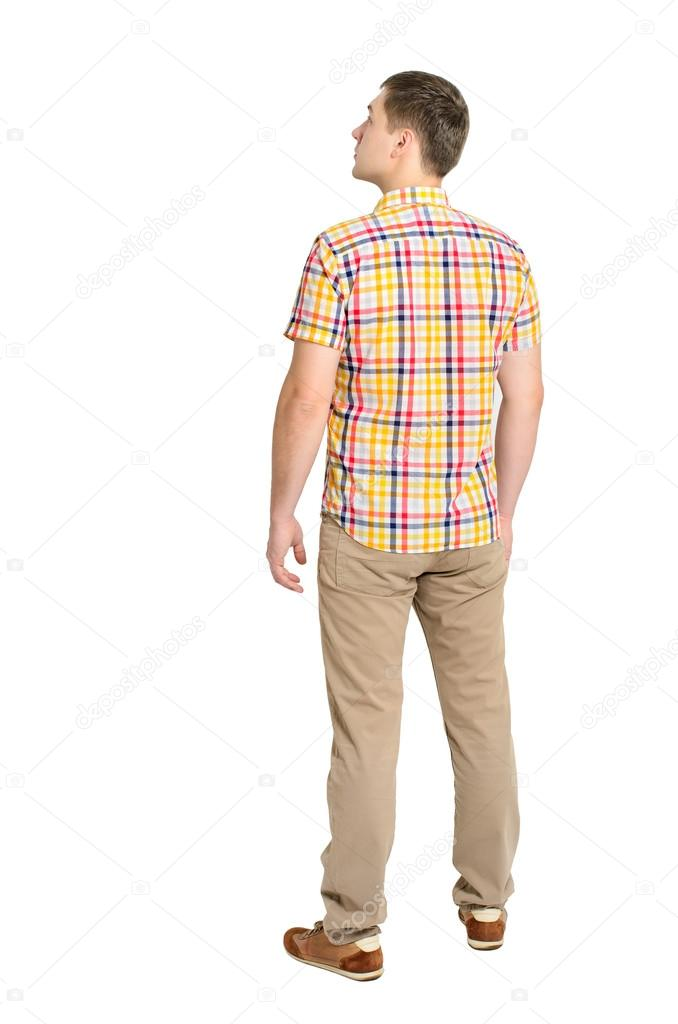person: (265, 72, 544, 979)
